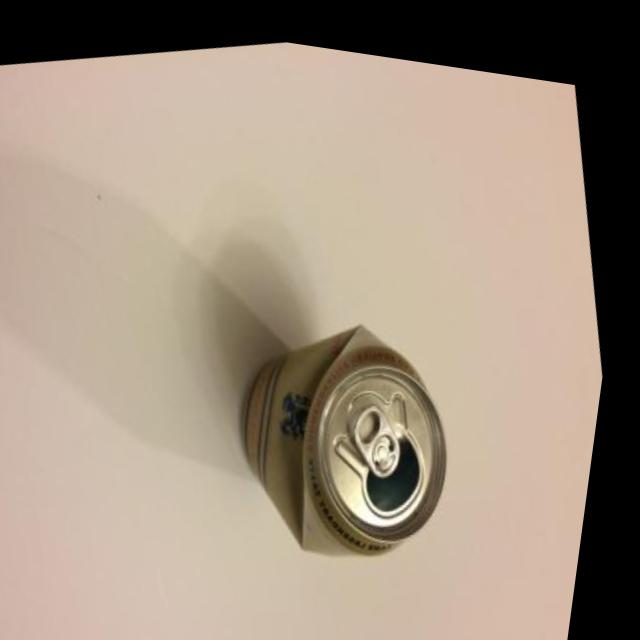metal: (152, 177, 546, 636)
